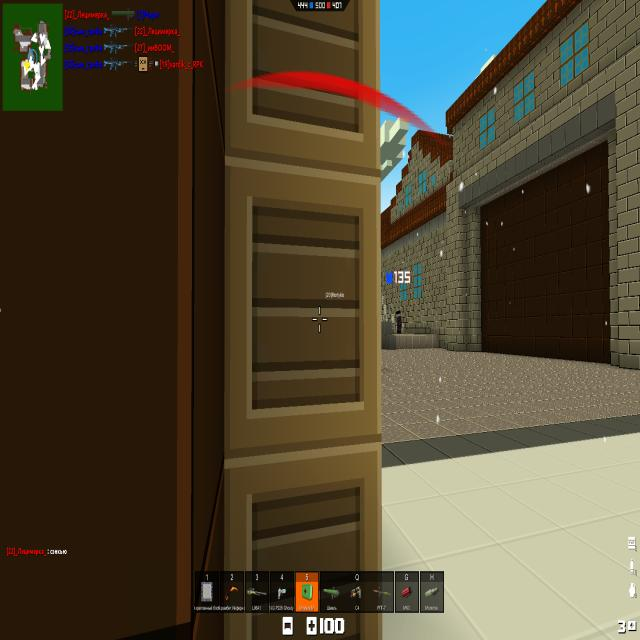player: (395, 310, 403, 334)
